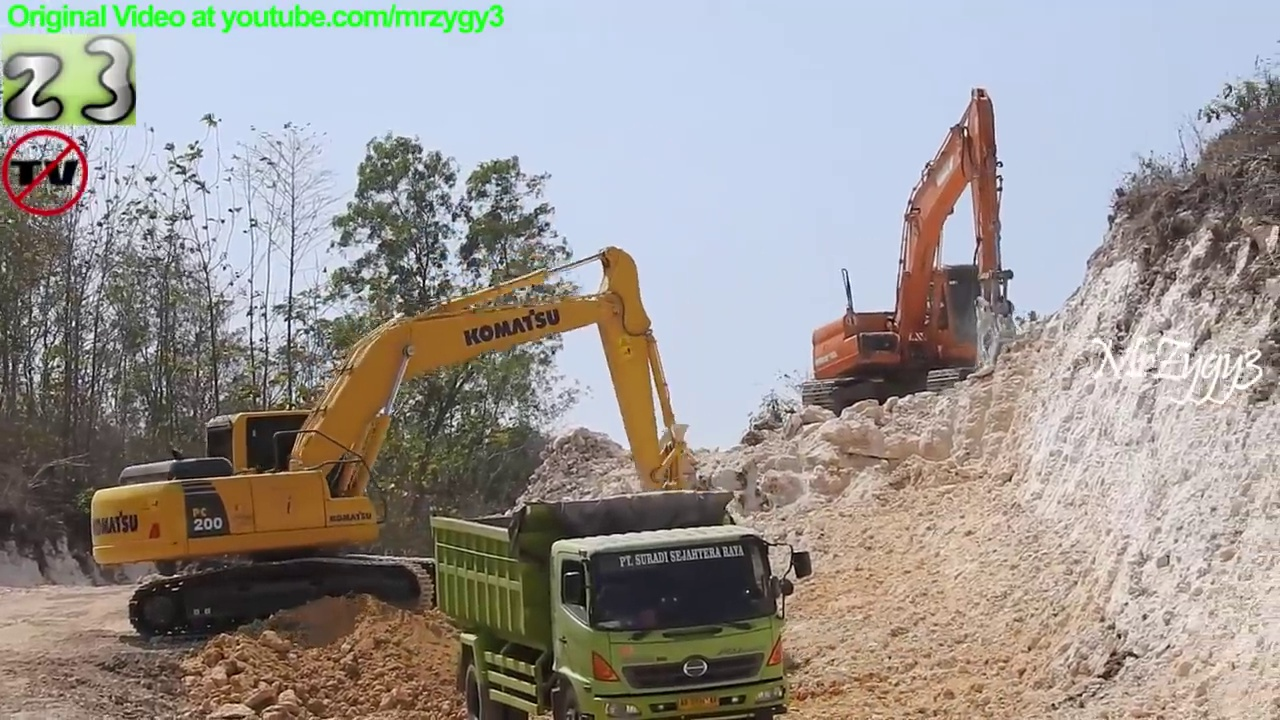excavator: (82, 244, 737, 650), (798, 79, 1030, 419)
truck: (426, 488, 818, 720)
